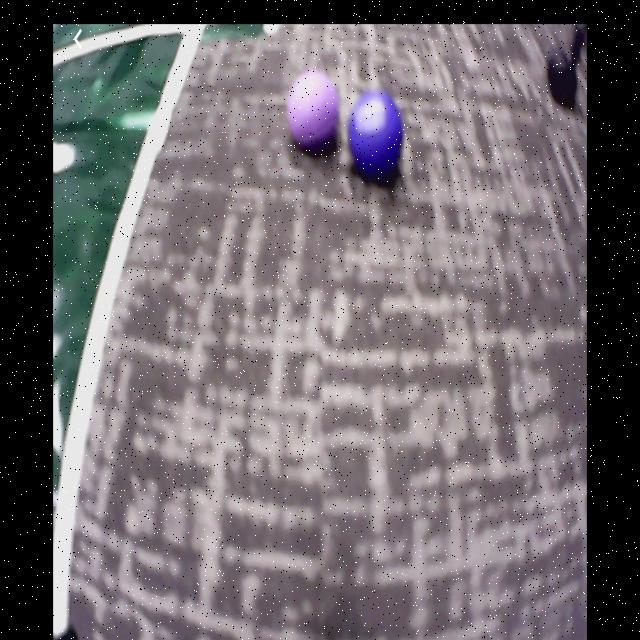ball: (349, 97, 403, 174), (289, 70, 341, 147)
